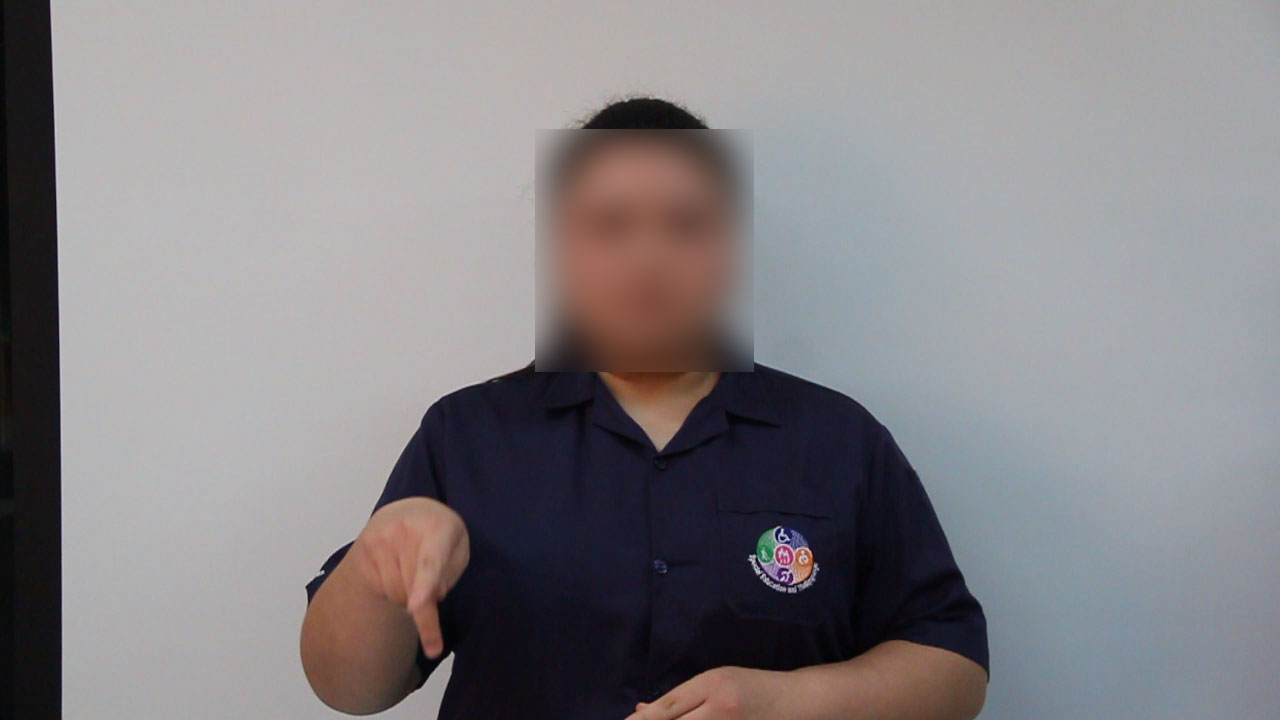por: (348, 488, 480, 670)
